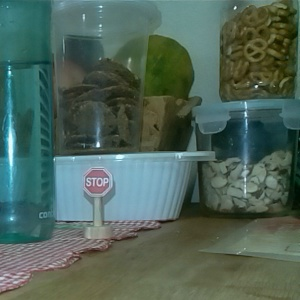stop sign: (78, 166, 118, 240)
